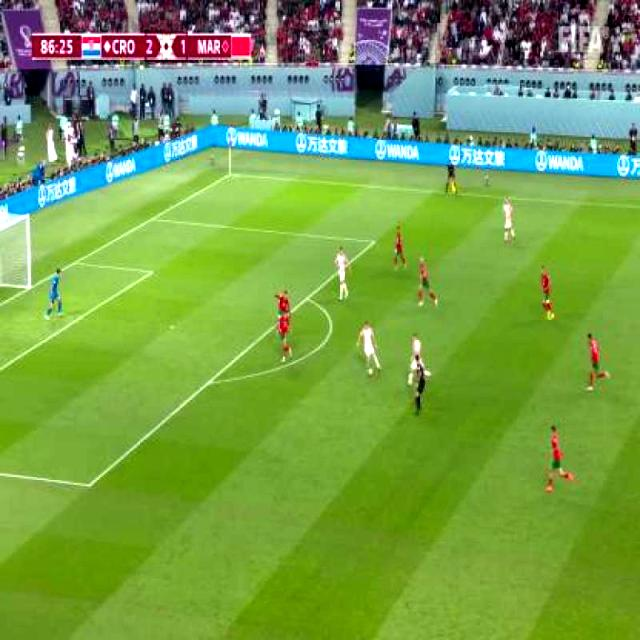bigarea_bottom_inner: (80, 470, 98, 500)
bigarea_top_inner: (368, 231, 382, 252)
bigarea_top_outter: (146, 211, 159, 226)
bottom_arc_area_intersection: (200, 371, 218, 394)
corner: (224, 170, 236, 180)
smallarea_top_inner: (148, 263, 160, 282)
smallarea_top_outter: (69, 257, 81, 271)
top_arc_area_intersection: (301, 289, 314, 308)
